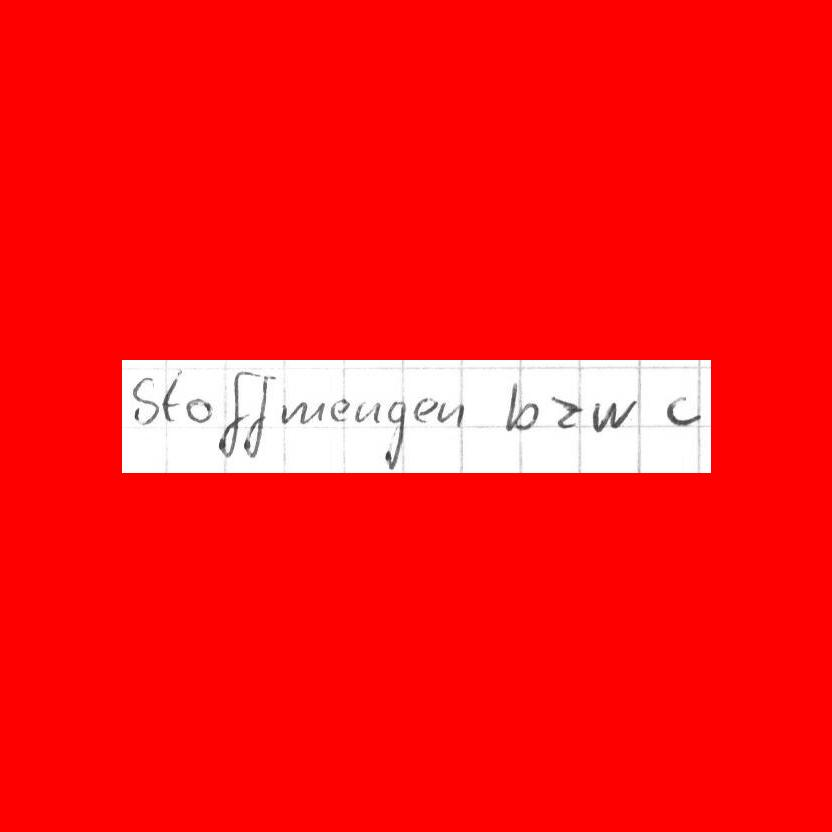Char: (244, 368, 275, 464), (218, 363, 247, 461), (501, 379, 541, 433), (383, 395, 409, 468), (590, 396, 638, 434), (129, 374, 161, 426), (279, 395, 325, 428), (662, 391, 701, 428), (548, 392, 584, 430), (163, 367, 186, 423), (434, 394, 470, 429), (185, 389, 218, 421), (354, 398, 385, 426), (414, 394, 438, 425), (329, 393, 352, 422)
